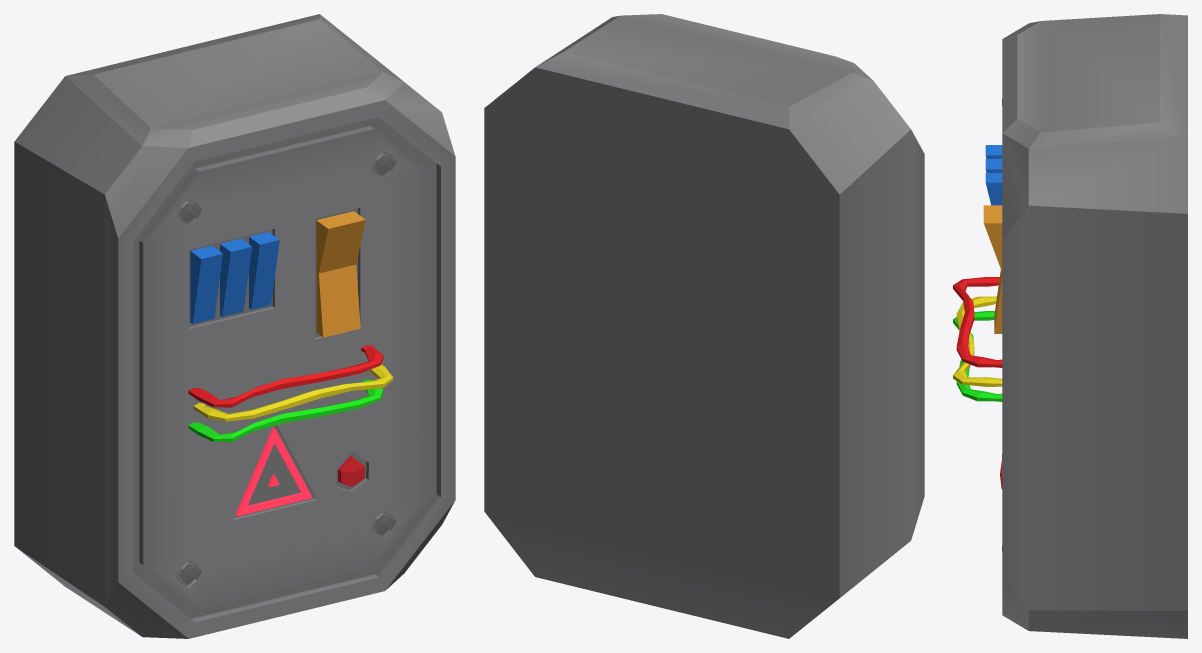
File: OfficeandEnv_Fusiveis.fbx
3 renders of one model, left to right at view 1: azimuth 30°, elevation 25°; view 2: azimuth 150°, elevation 25°; view 3: azimuth 270°, elevation 25°, orthographic.
Visible parts, largest first — view 1: Fusiveis; view 2: Fusiveis; view 3: Fusiveis.
Part boxes in pixels (box(x1,y1,x2,y2)): Fusiveis: box(14, 14, 455, 638); Fusiveis: box(484, 14, 924, 638); Fusiveis: box(953, 14, 1187, 638).
Bounding box in the file's own units: 45.57 × 64.28 × 26.51.
